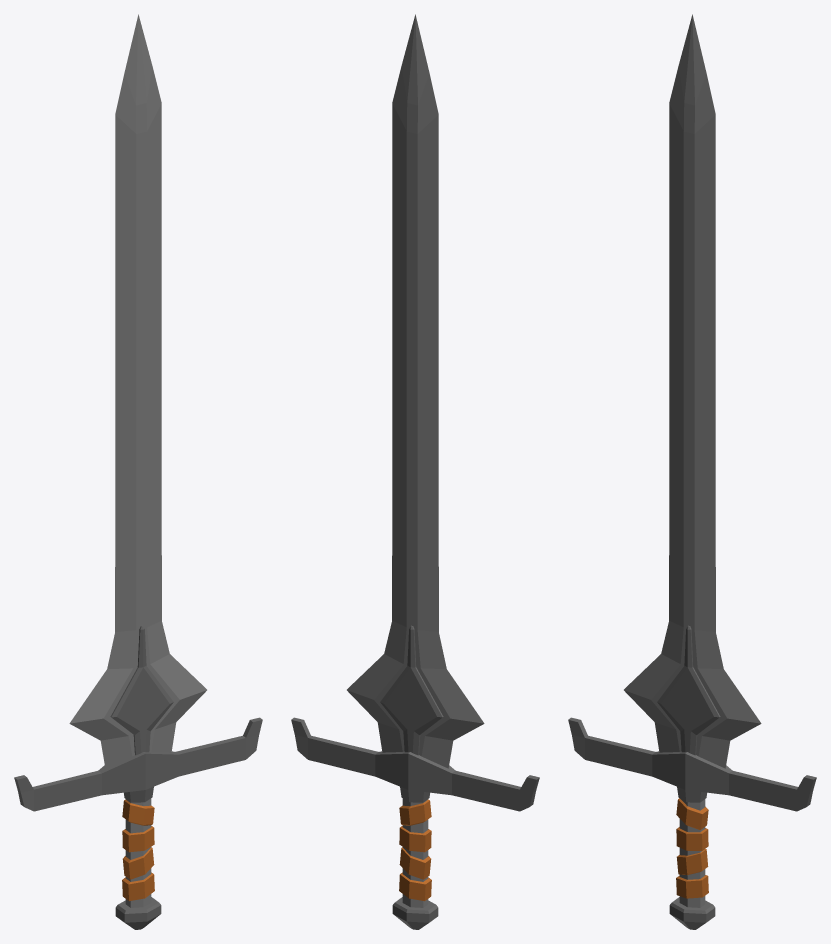
The model's file is sword_1.fbx.
3 renders of one model, left to right at view 1: azimuth 30°, elevation 25°; view 2: azimuth 150°, elevation 25°; view 3: azimuth 330°, elevation 25°, orthographic.
Visible parts, largest first — view 1: Sword; view 2: Sword; view 3: Sword.
Boxes of the visible parts, x1=… form: Sword: x1=14, y1=14, x2=262, y2=929; Sword: x1=291, y1=14, x2=539, y2=929; Sword: x1=568, y1=14, x2=816, y2=929.
Bounding box in the file's own units: 66.25 × 236 × 8.38.
